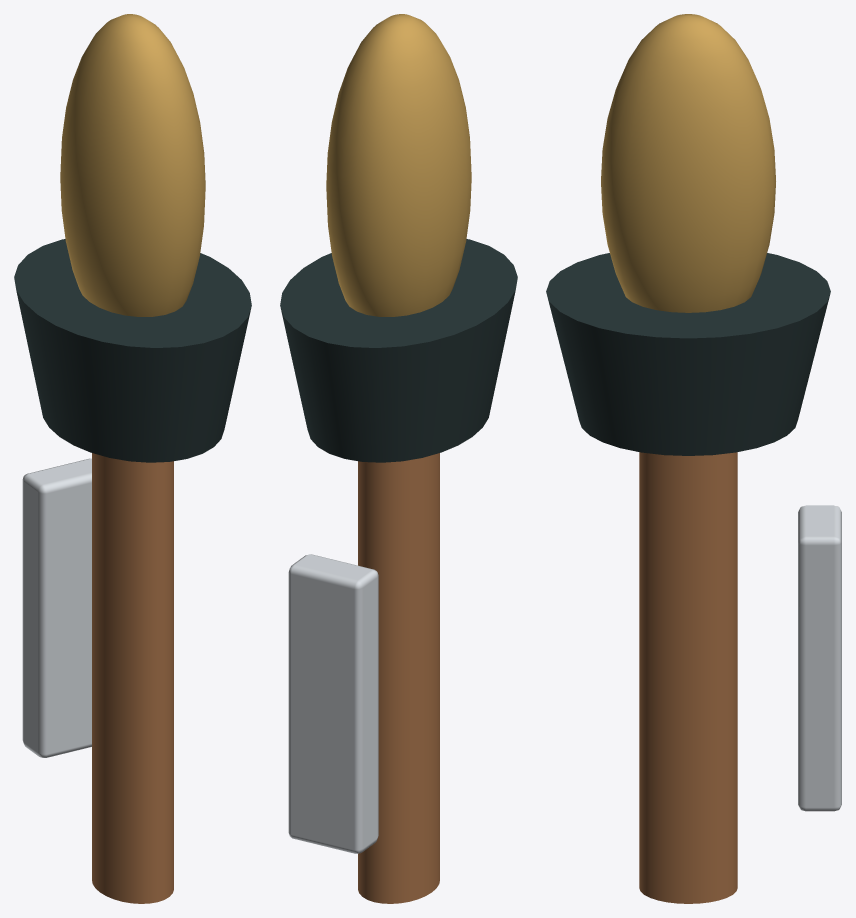
The model's file is wp-torche-murale.glb.
3 views of the same model, side by side, from view 1: azimuth 30°, elevation 25°; view 2: azimuth 150°, elevation 25°; view 3: azimuth 270°, elevation 25° (orthographic).
Visible parts, largest first — view 1: wp-torche-murale; view 2: wp-torche-murale; view 3: wp-torche-murale.
Boxes of the visible parts, left/top/right/bottom form: wp-torche-murale: left=14, top=14, right=251, bottom=903; wp-torche-murale: left=280, top=14, right=517, bottom=903; wp-torche-murale: left=546, top=14, right=841, bottom=903.
Bounding box in the file's own units: 0.15 × 0.65 × 0.2.
